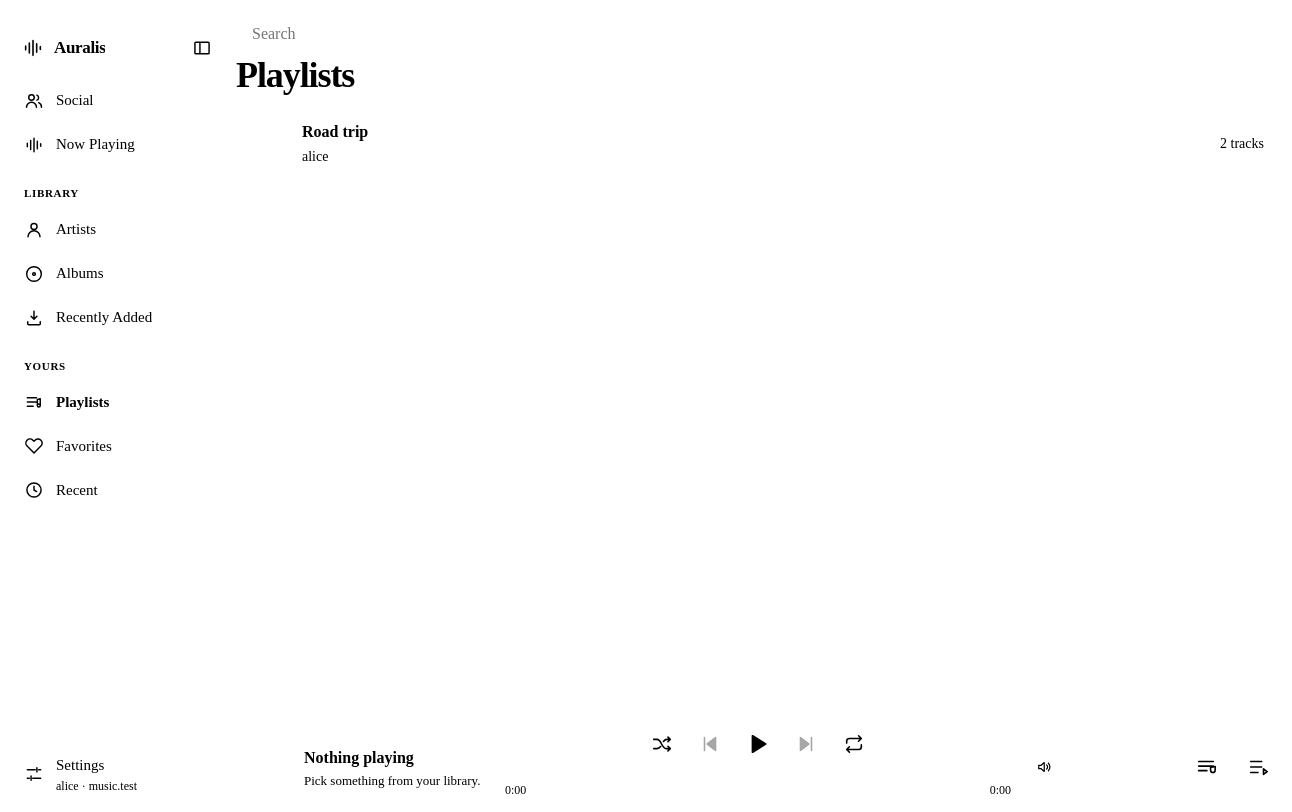
Test case: browse › shows playlist and favorites content
Click the link "Road trip alice 2 tracks".
click(335, 132)  # box [236, 116, 1280, 172]
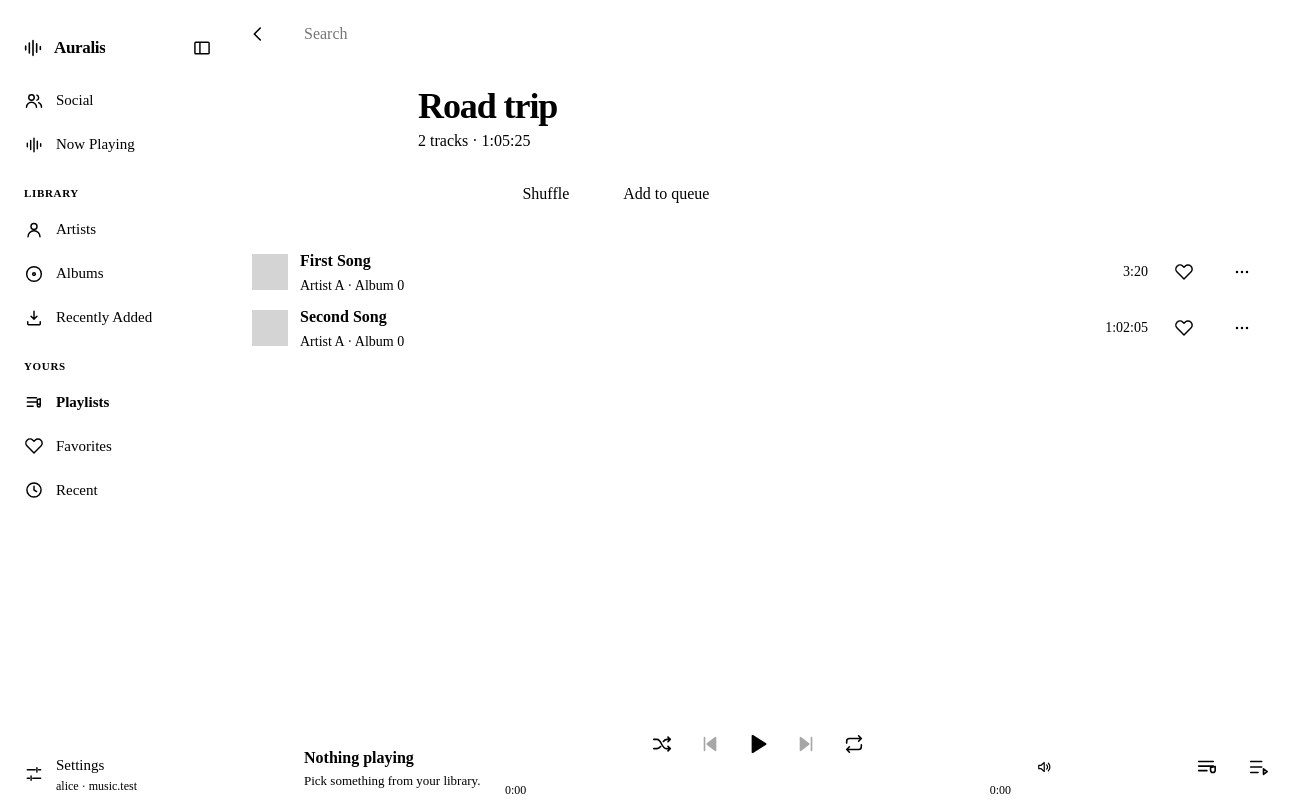
Expected: the text "First Song" is shown, [300, 252, 371, 268]
Click the link "Favorites".
click(68, 446)  # box [24, 436, 112, 456]
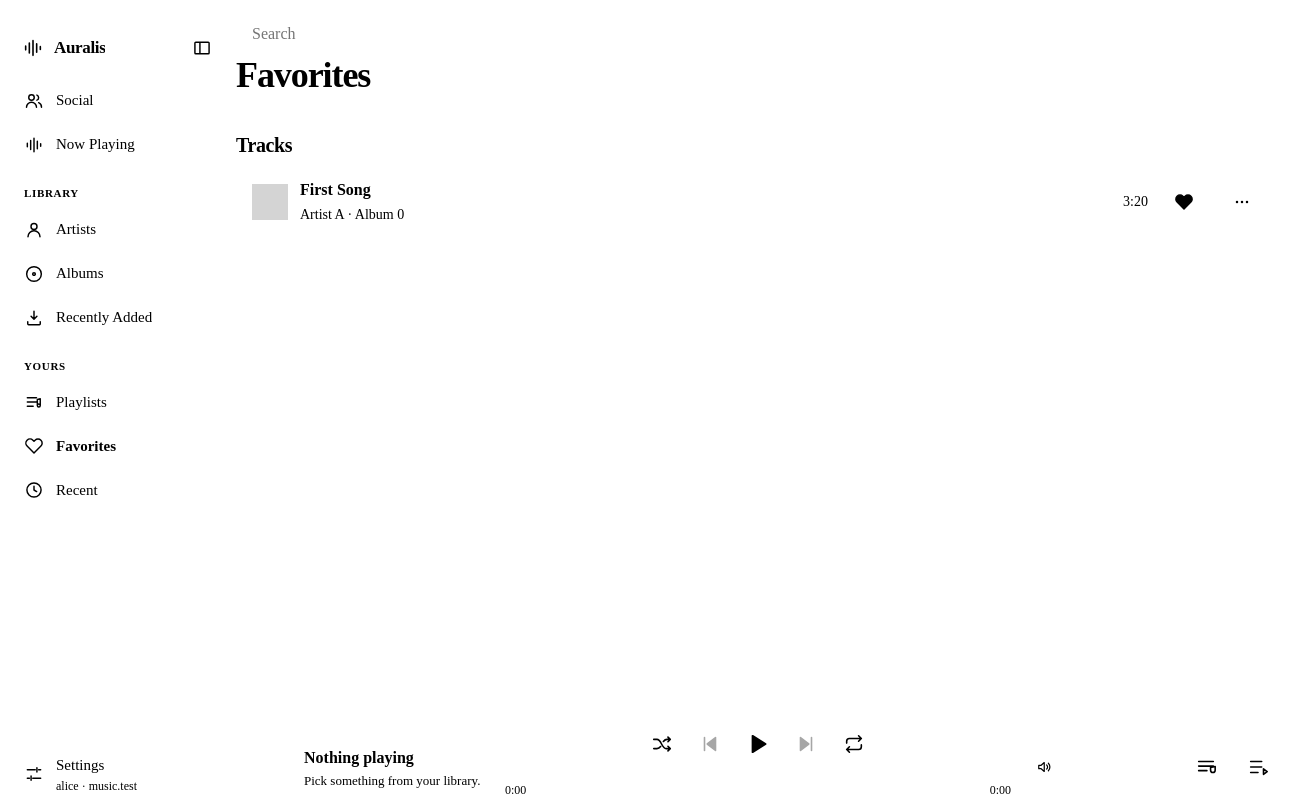
Expected: the list named "Favorite tracks" is shown, [236, 174, 1280, 230]
